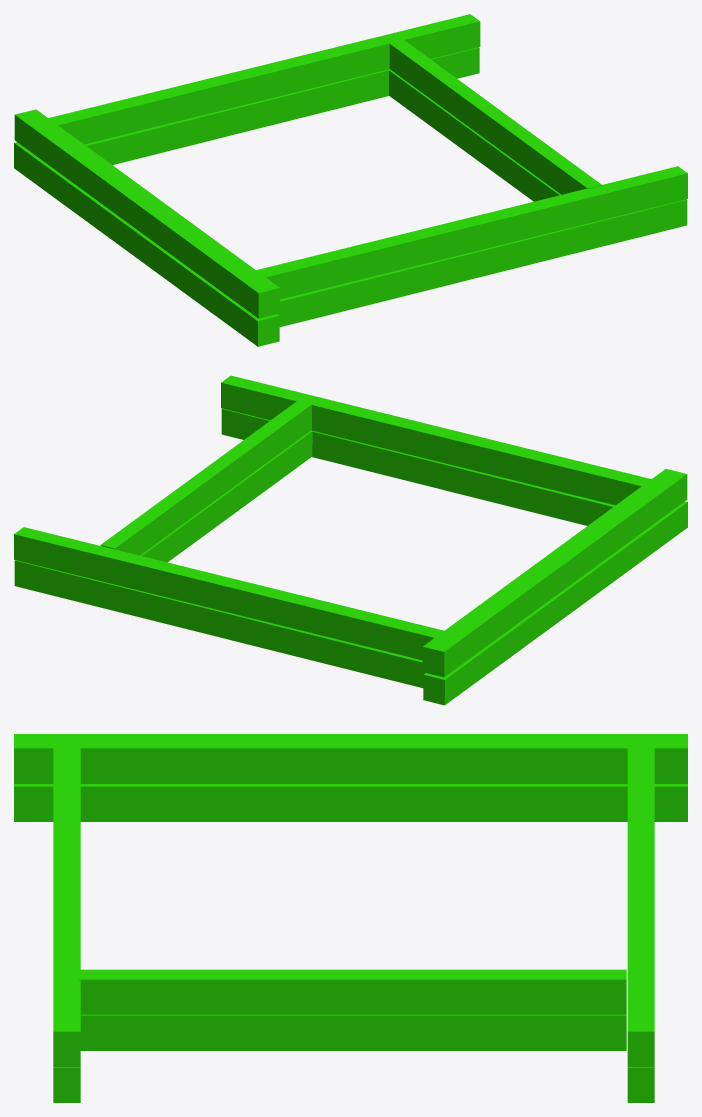
File: Trestle_02_Lod0.fbx
3 views of the same model, one above another, from view 1: azimuth 30°, elevation 25°; view 2: azimuth 150°, elevation 25°; view 3: azimuth 270°, elevation 25° (orthographic). The views are drawn at different scales.
Visible parts, largest first — view 1: Trestle_02_Lod0; view 2: Trestle_02_Lod0; view 3: Trestle_02_Lod0.
Boxes of the visible parts, x1,y1,x2,y2 form: Trestle_02_Lod0: [14, 14, 687, 346]; Trestle_02_Lod0: [14, 375, 687, 705]; Trestle_02_Lod0: [14, 734, 687, 1102].
Bounding box in the file's own units: 75.38 × 8.92 × 71.65.
